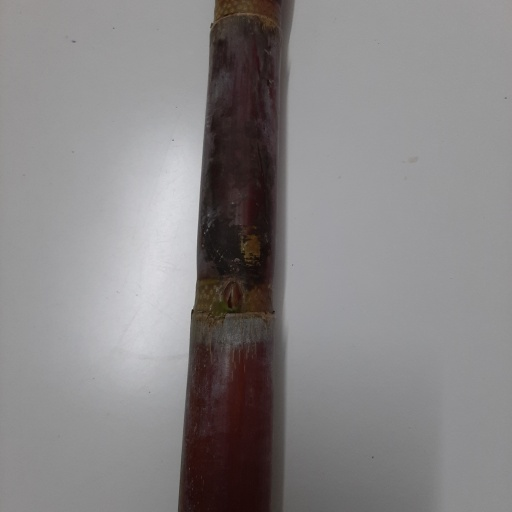Bud: (221, 280, 243, 311)
